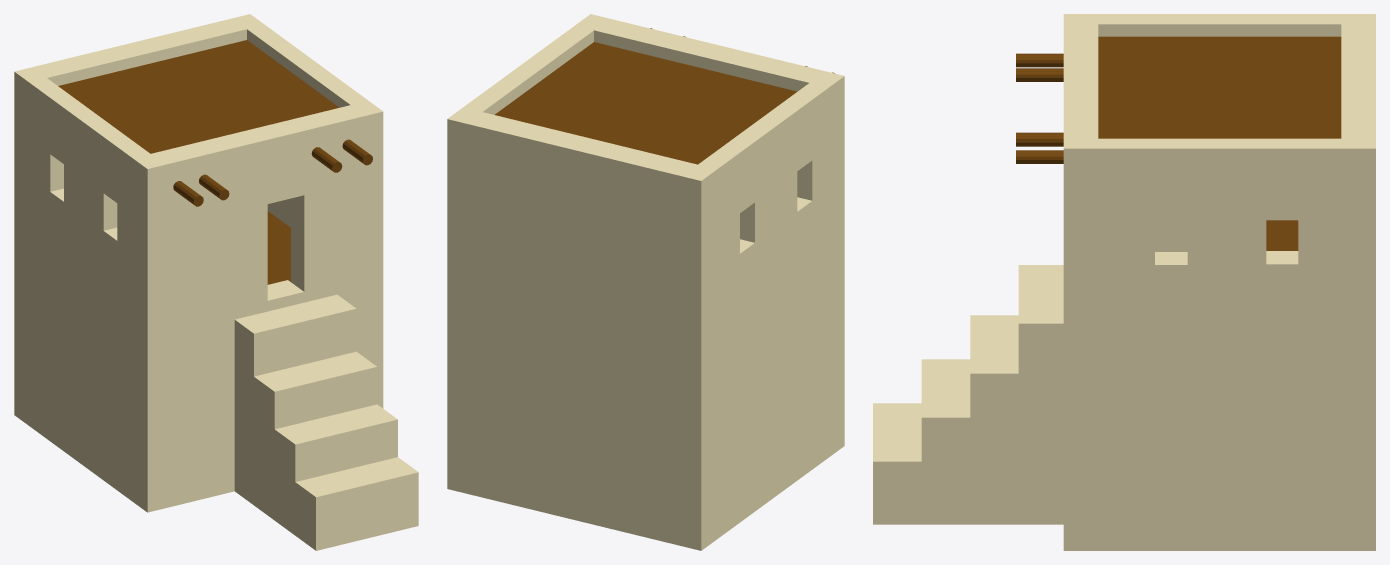
The model's file is square2.glb.
3 views of the same model, side by side, from view 1: azimuth 30°, elevation 25°; view 2: azimuth 150°, elevation 25°; view 3: azimuth 270°, elevation 25° (orthographic). The views are drawn at different scales.
Parts seen in each view (by area): view 1: square; view 2: square; view 3: square.
Boxes of the visible parts, box(x1,y1,x2,y2) form: square: box(14, 14, 418, 550); square: box(447, 14, 844, 550); square: box(873, 14, 1375, 550).
Size of the model in its own units: 4.6 by 6.4 by 7.25.
